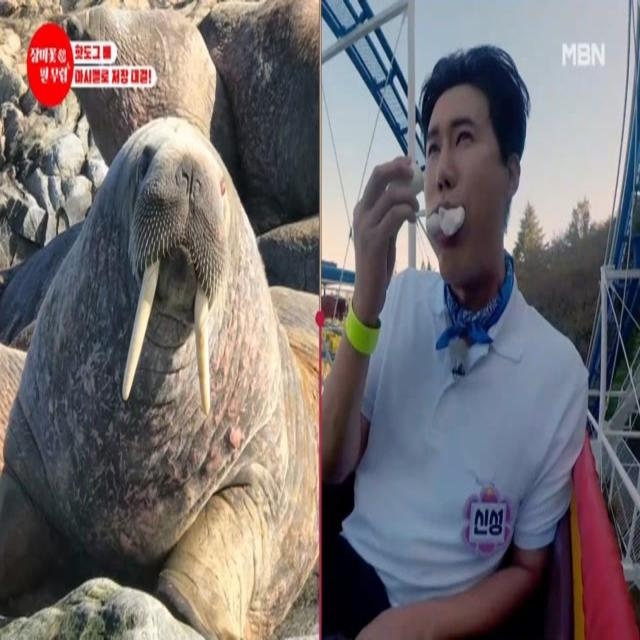walrus: (32, 117, 280, 577)
